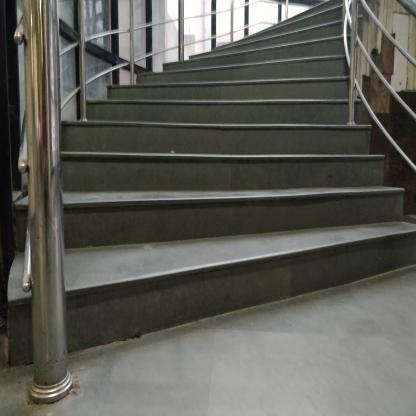stairs: (77, 160, 378, 367)
